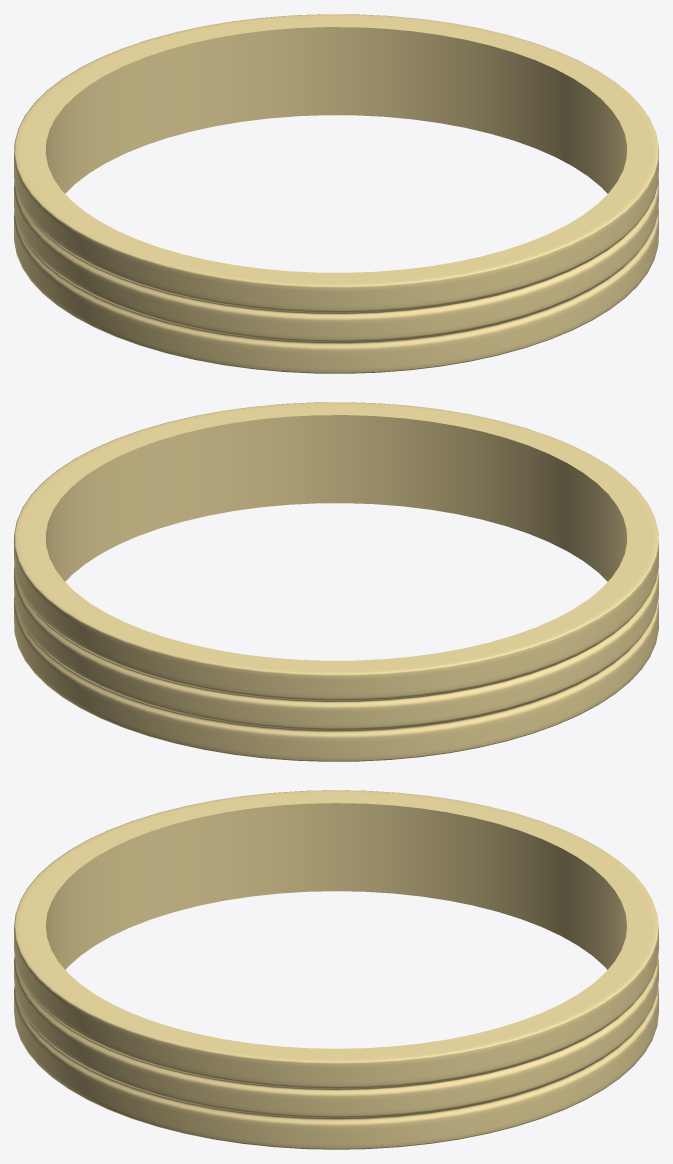
The picture shows the model from 3 angles, top to bottom: view 1: azimuth 30°, elevation 25°; view 2: azimuth 150°, elevation 25°; view 3: azimuth 270°, elevation 25°; orthographic projection.
Parts seen in each view (by area): view 1: Base_Metal, Engraving_Metal; view 2: Base_Metal, Engraving_Metal; view 3: Base_Metal, Engraving_Metal.
Boxes of the visible parts, bbox=[...] form: Base_Metal: bbox=[14, 14, 658, 373]; Engraving_Metal: bbox=[45, 27, 627, 193]; Base_Metal: bbox=[14, 402, 658, 761]; Engraving_Metal: bbox=[45, 415, 627, 581]; Base_Metal: bbox=[14, 790, 658, 1149]; Engraving_Metal: bbox=[46, 803, 626, 969].
Size of the model in its own units: 2.32 by 0.35 by 2.32.
